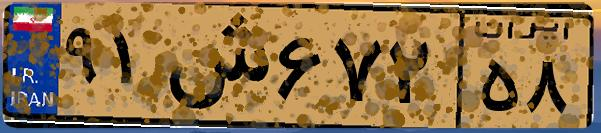1: (110, 28, 158, 98)
2: (385, 28, 445, 110)
5: (475, 38, 525, 113)
6: (270, 28, 330, 110)
7: (330, 28, 385, 110)
8: (525, 38, 570, 115)
9: (57, 26, 110, 100)
ش: (158, 12, 270, 120)
